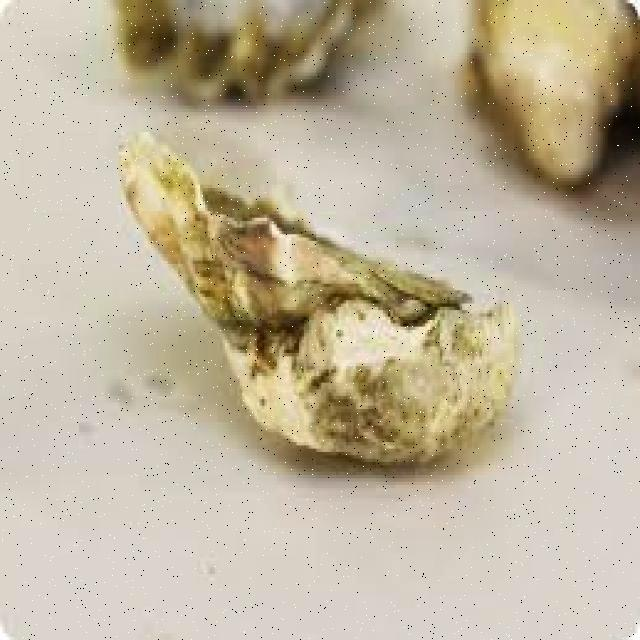Oyster-Closed: (119, 132, 515, 463), (116, 1, 385, 104)
